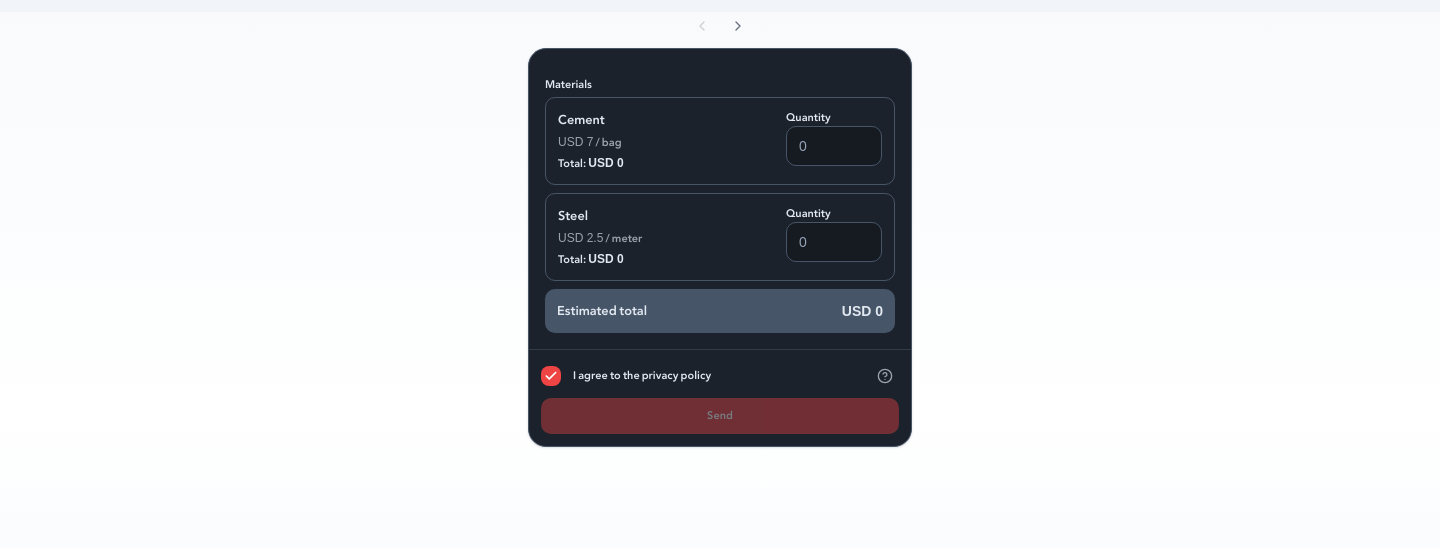
Test: product selection › calculates quantities, line totals and a mock completion in form
This screenshot has width=1440, height=548.
Expected: the button "Send" is disabled, [541, 398, 899, 434]
Type "8" into the number field named "Quantity: Cement" at (834, 146), box [786, 126, 882, 166]
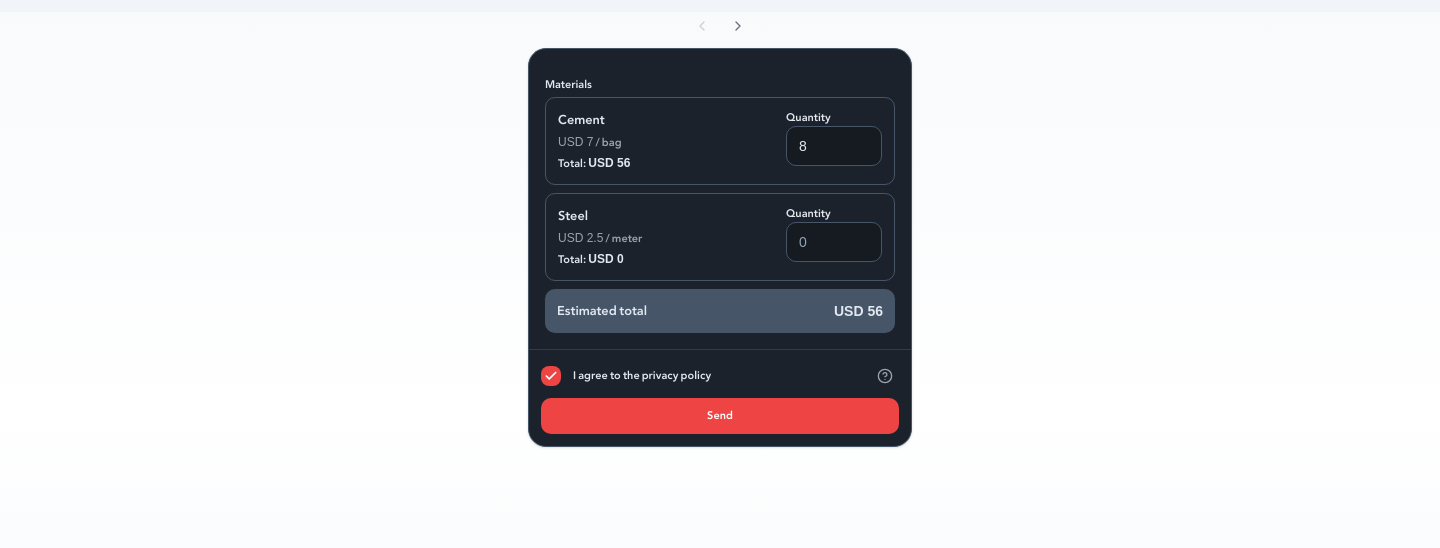
Type "1.5" into the number field named "Quantity: Steel" at (834, 242), box [786, 222, 882, 262]
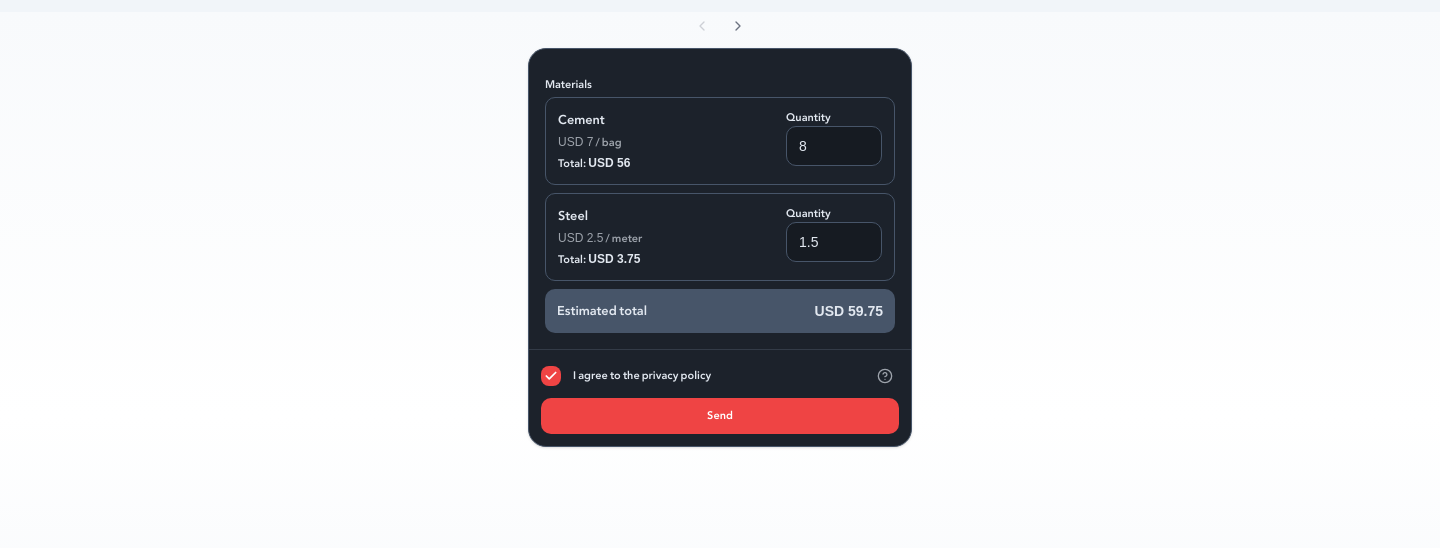
Expected: the text "USD 56" is shown, [588, 156, 630, 170]
Expected: the text "USD 3.75" is shown, [588, 252, 640, 266]
Expected: the text "USD 59.75" is shown, [814, 301, 883, 321]
Replace the text in the number field named "Quantity: Steel" with "-1" at (834, 242), box [786, 222, 882, 262]
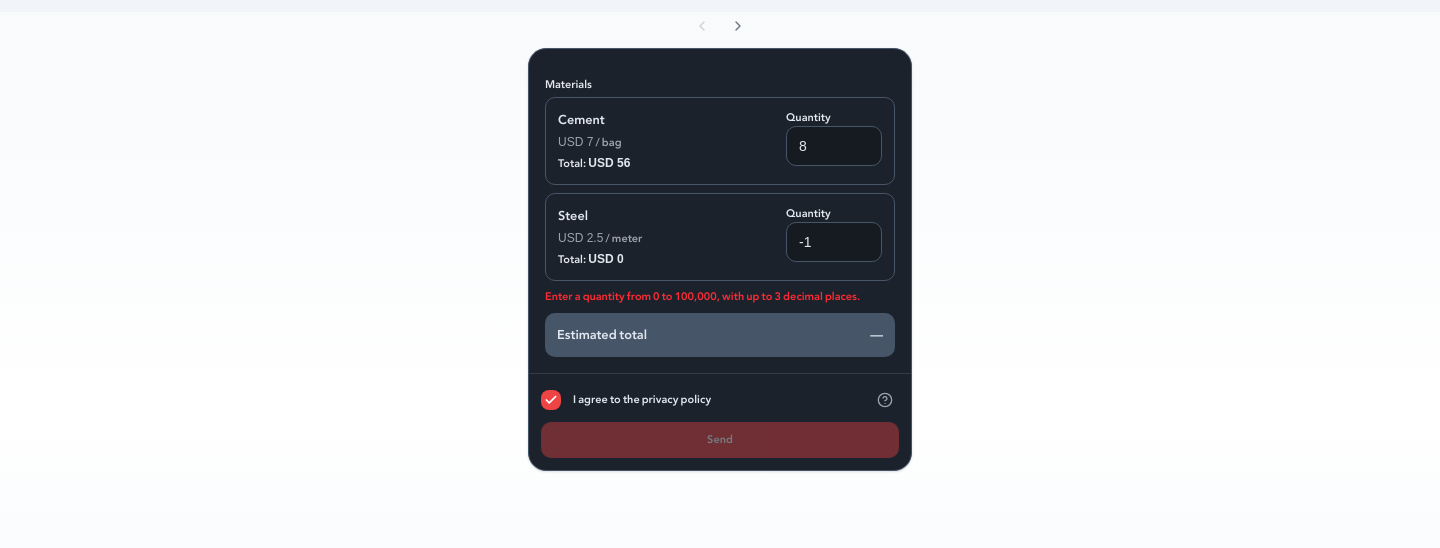
Expected: the button "Send" is disabled, [541, 422, 899, 458]
Expected: the message shows "Enter a quantity", [545, 287, 860, 306]
Clear the number field named "Quantity: Steel" at (834, 242), box [786, 222, 882, 262]
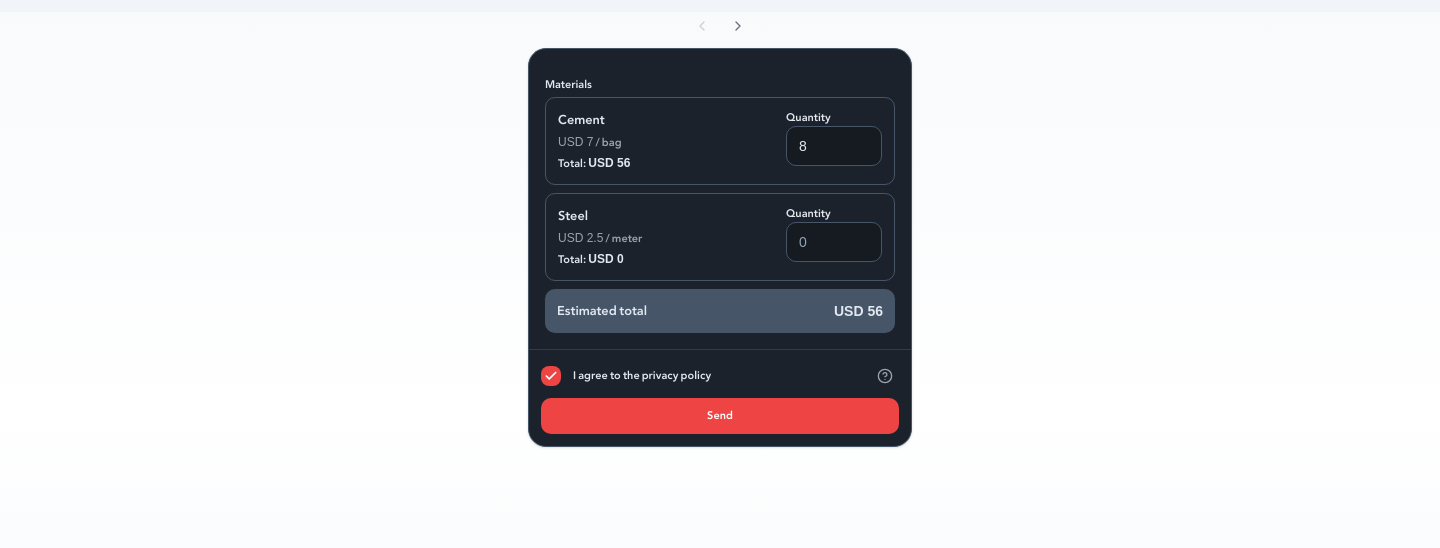
Click the button "Send" at (720, 416), box [541, 398, 899, 434]
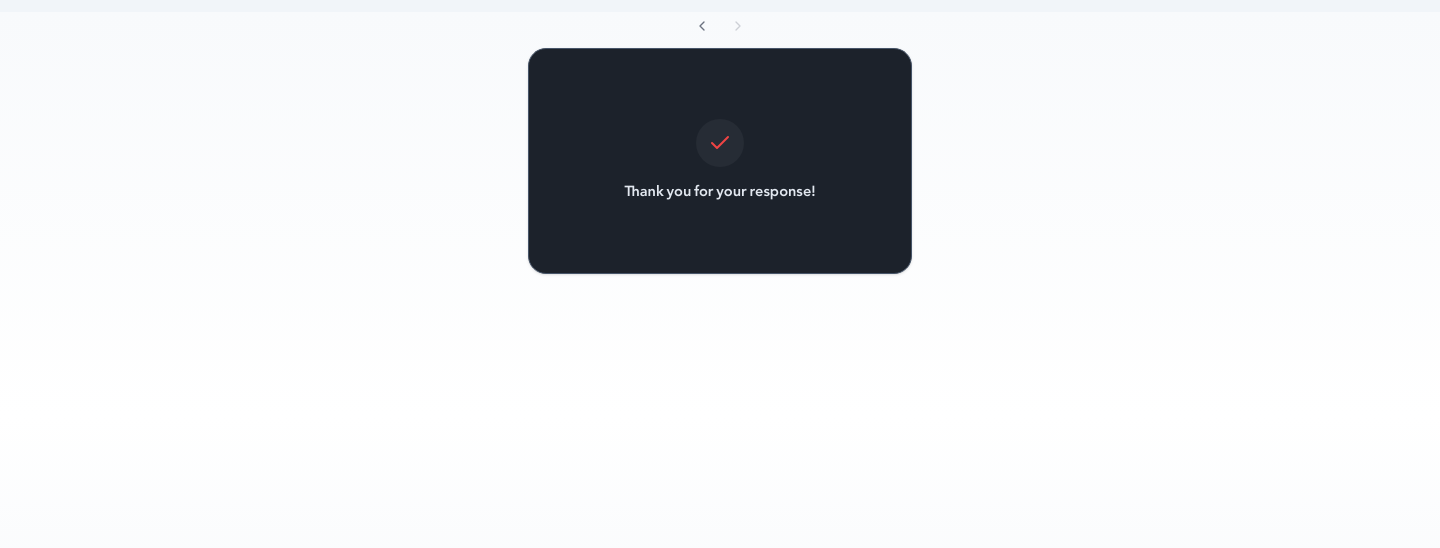
Expected: the heading "Thank you for your response!" is shown, [624, 179, 816, 203]
